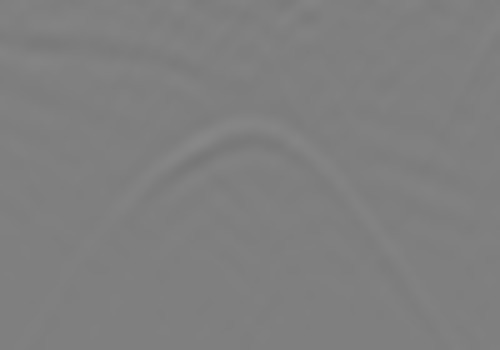hyperbola: (80, 103, 437, 311)
